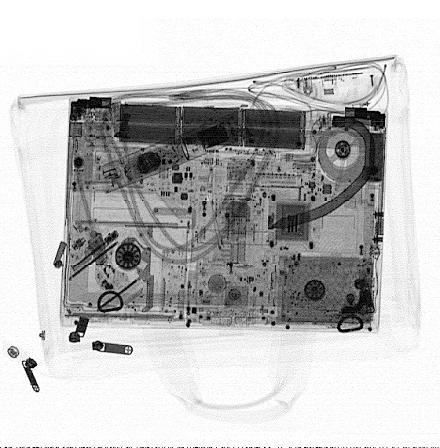Baton: (97, 109, 252, 194)
